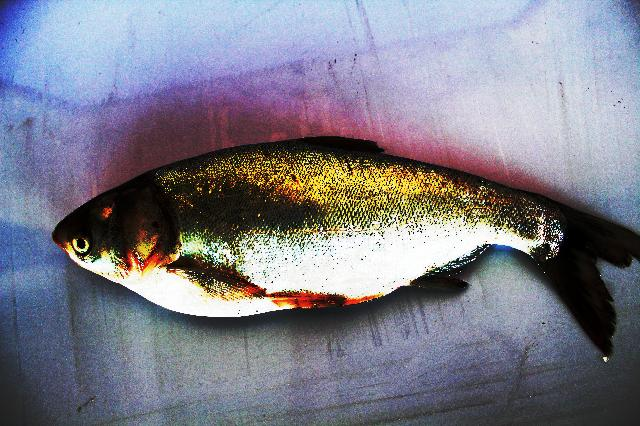Healthy Fish: (53, 137, 640, 353)
